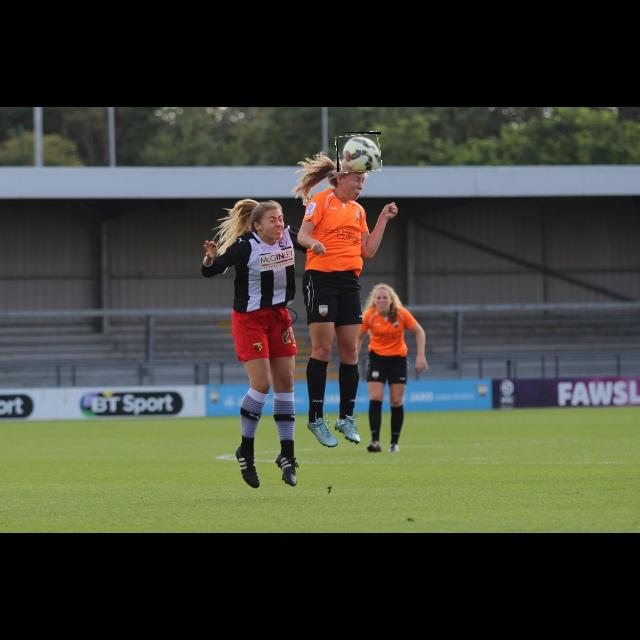Football: (337, 132, 381, 172)
